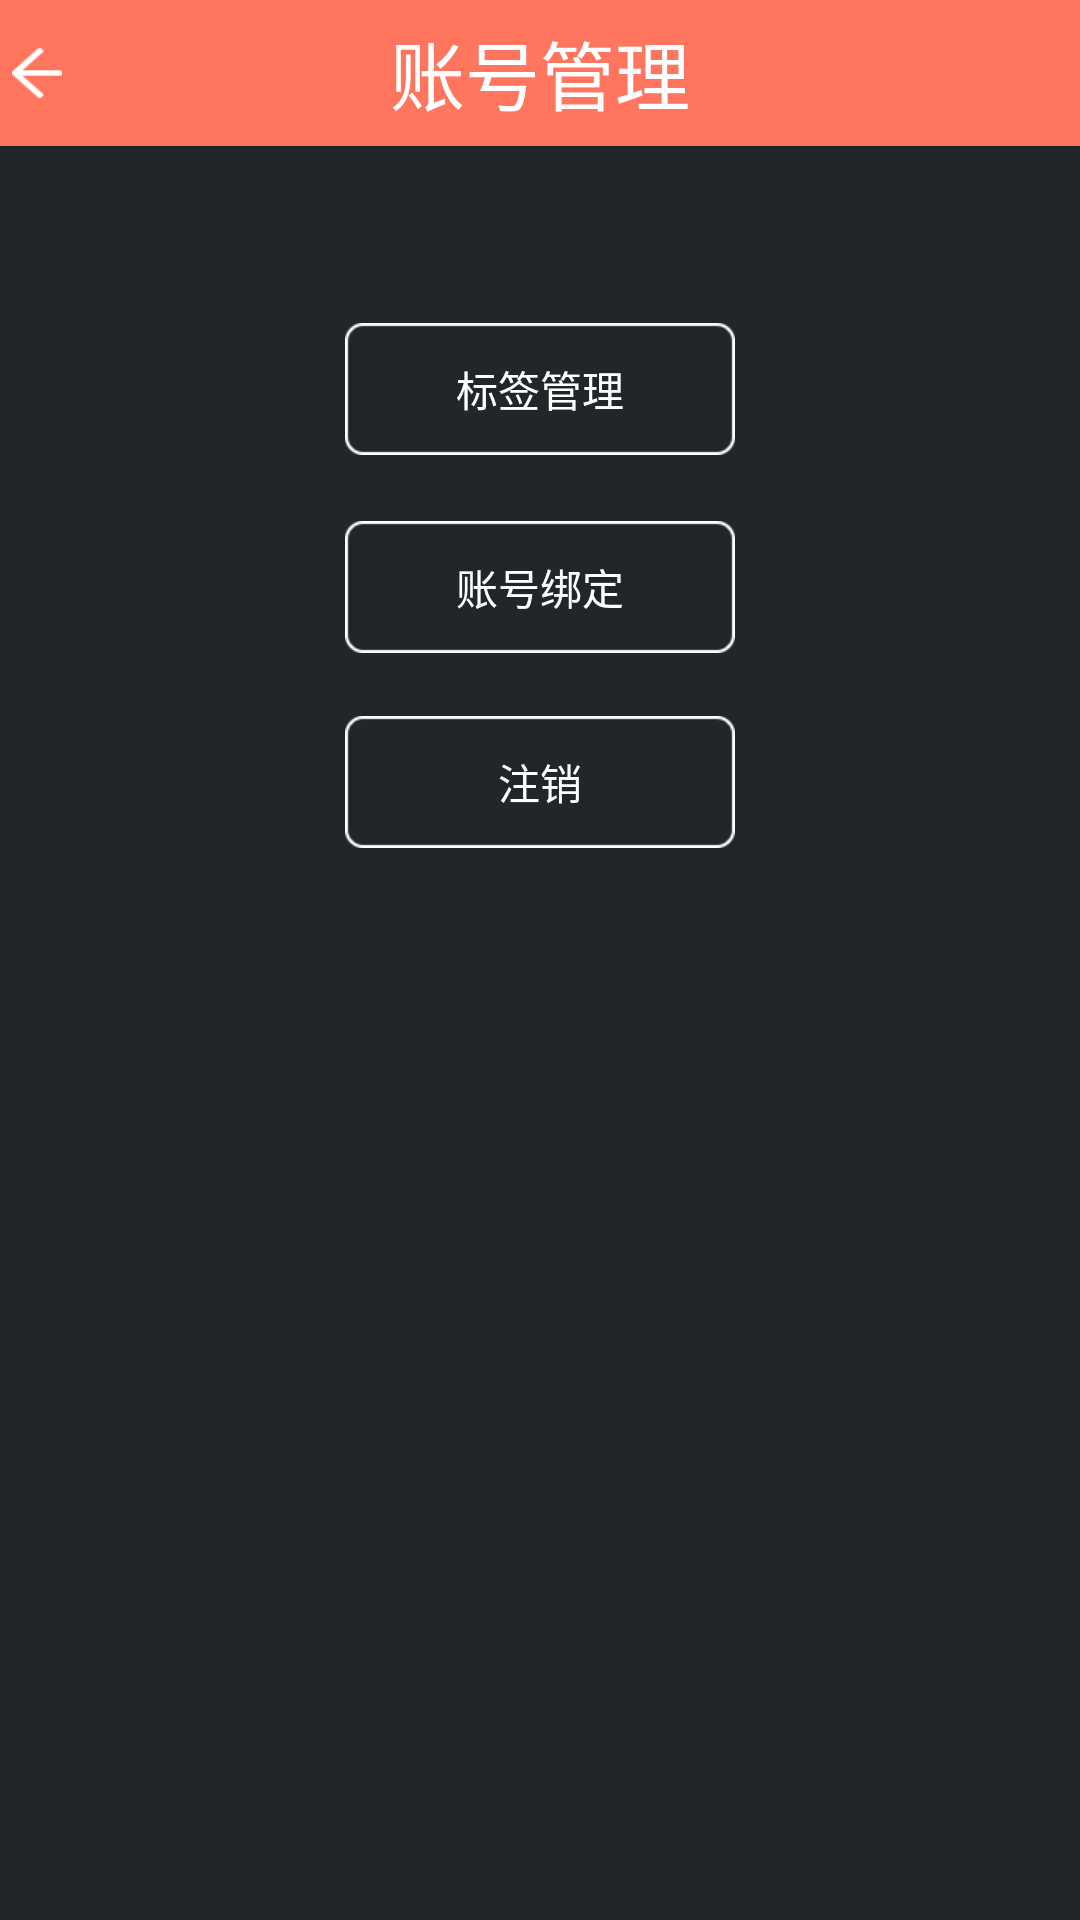

Screen size 1080w x 1920h. Icon name, then its box in pixels as [left=x1, top=y1, right=x2, bottom=y2]:
back: [left=12, top=48, right=62, bottom=98]
